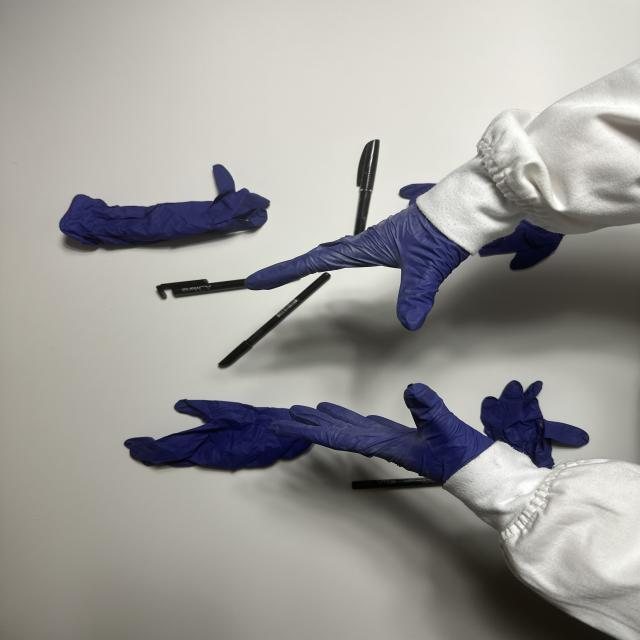gloves_contaminated: (247, 205, 469, 330), (270, 384, 492, 484)
